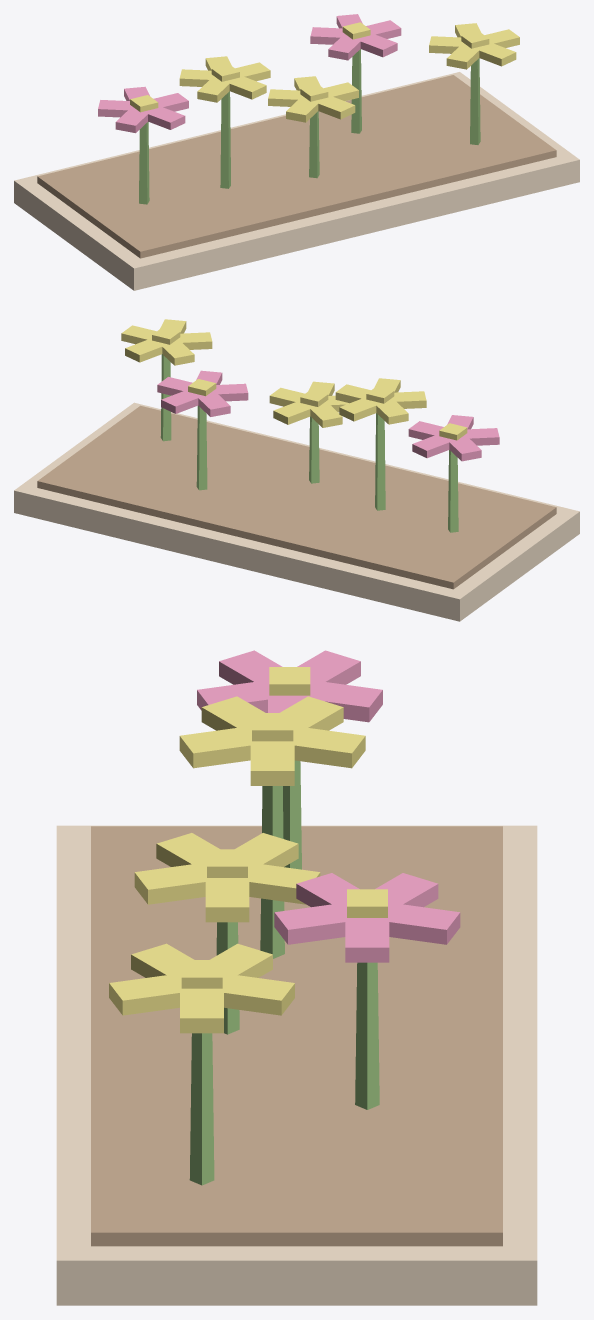
The model's file is PG_FlowerBed_Long.fbx.
3 views of the same model, one above another, from view 1: azimuth 30°, elevation 25°; view 2: azimuth 150°, elevation 25°; view 3: azimuth 270°, elevation 25° (orthographic). The views are drawn at different scales.
Parts seen in each view (by area): view 1: PG_FlowerBed_Long; view 2: PG_FlowerBed_Long; view 3: PG_FlowerBed_Long.
Part boxes in pixels (<box>): PG_FlowerBed_Long: <box>14,14,579,290</box>; PG_FlowerBed_Long: <box>14,319,579,621</box>; PG_FlowerBed_Long: <box>56,650,537,1305</box>.
Size of the model in its own units: 2.1 by 0.6549 by 0.98.
